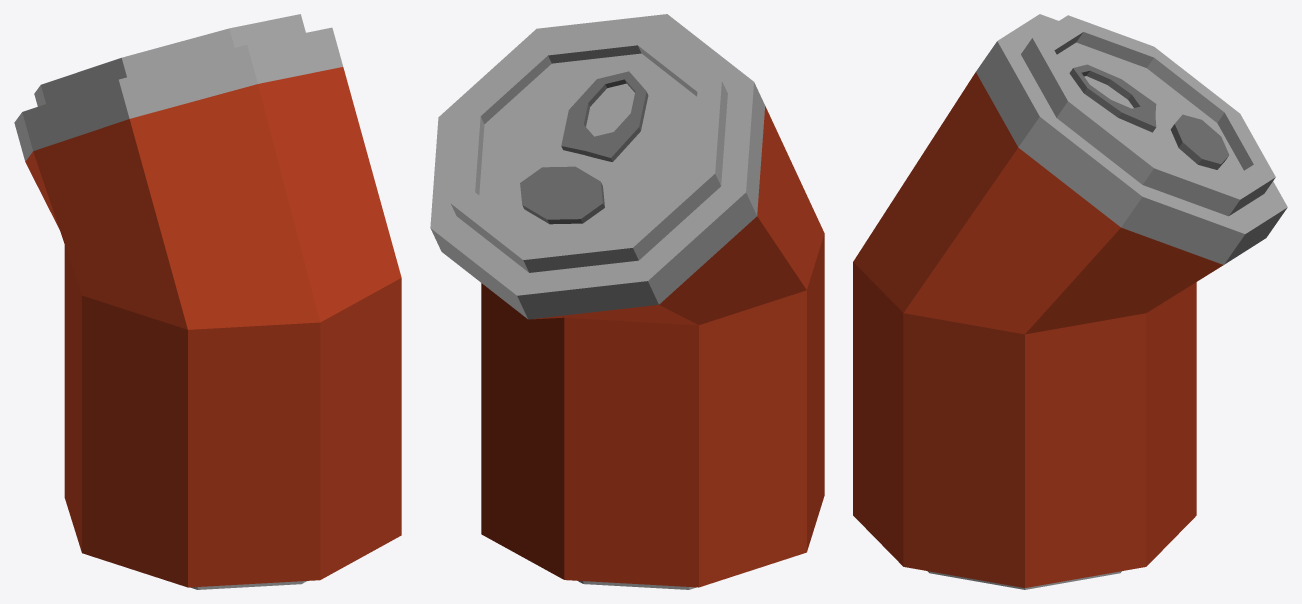
Rendered from RedCan Bent.fbx.
3 renders of one model, left to right at view 1: azimuth 30°, elevation 25°; view 2: azimuth 150°, elevation 25°; view 3: azimuth 270°, elevation 25°, orthographic. The views are drawn at different scales.
Parts seen in each view (by area): view 1: Cube.006; view 2: Cube.006, Cube.014, Cube.010; view 3: Cube.006, Cube.010, Cube.014.
Part boxes in pixels (<box>): Cube.006: <box>14,14,401,589</box>; Cube.006: <box>430,14,824,589</box>; Cube.014: <box>520,166,604,224</box>; Cube.010: <box>561,71,648,161</box>; Cube.006: <box>853,14,1287,589</box>; Cube.010: <box>1069,64,1156,132</box>; Cube.014: <box>1170,114,1228,169</box>.
Bounding box in the file's own units: 36.24 × 57.62 × 45.85.
